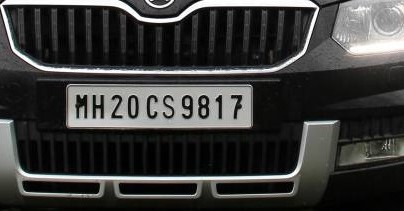MH20CS9817: (68, 85, 252, 128)
